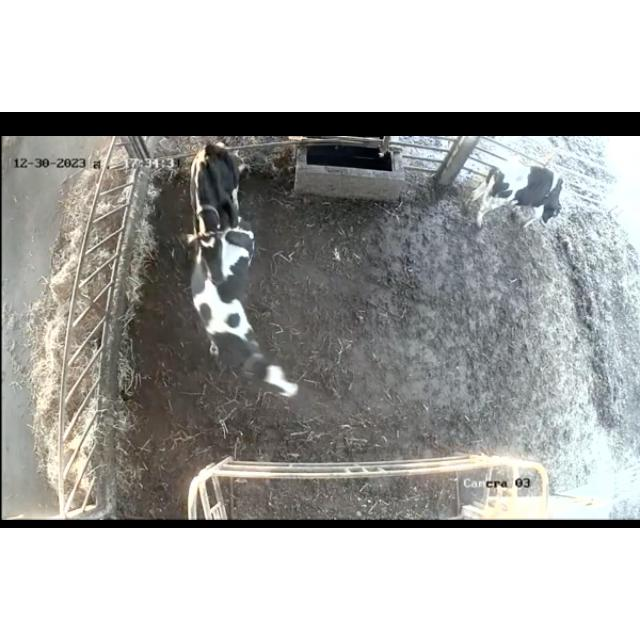propping: (168, 211, 262, 299)
